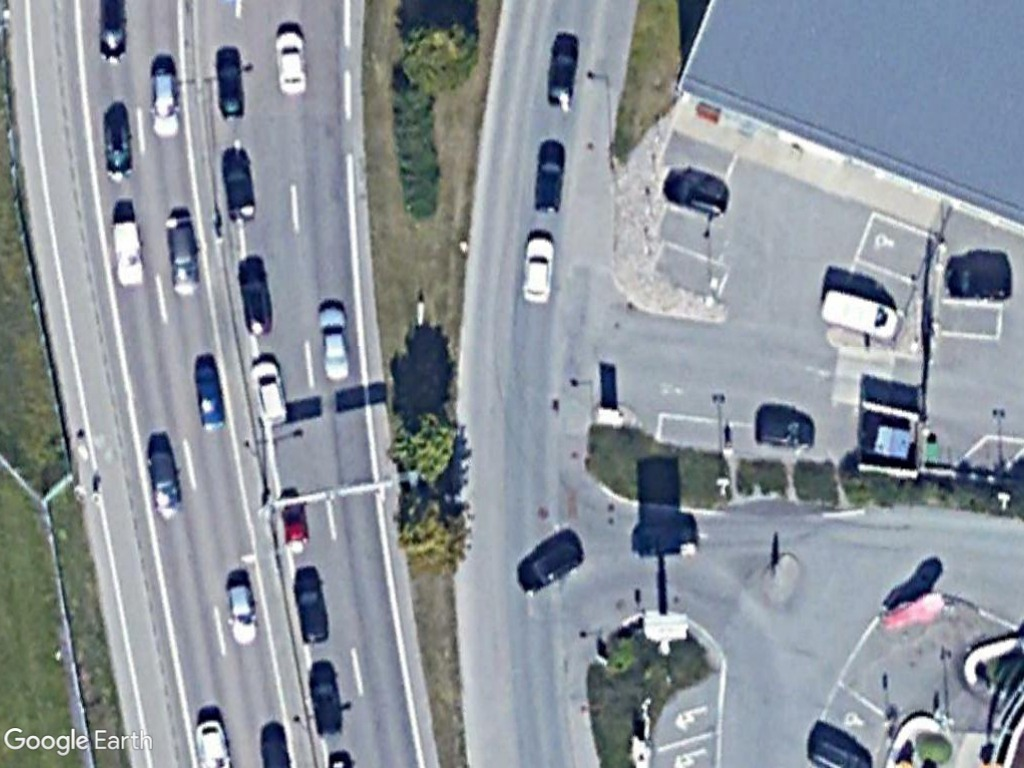car: (512, 533, 586, 597), (527, 131, 572, 219), (302, 661, 348, 740), (141, 442, 187, 520), (315, 298, 355, 386), (249, 353, 292, 432), (750, 406, 820, 454), (943, 260, 1016, 306), (661, 173, 732, 220), (291, 570, 334, 647), (97, 108, 141, 183), (163, 212, 200, 300), (519, 229, 559, 309), (106, 216, 149, 290), (542, 34, 579, 117), (269, 25, 309, 100), (223, 577, 262, 653), (190, 358, 229, 434), (147, 63, 183, 144), (212, 45, 248, 123)
van: (816, 285, 904, 345)
